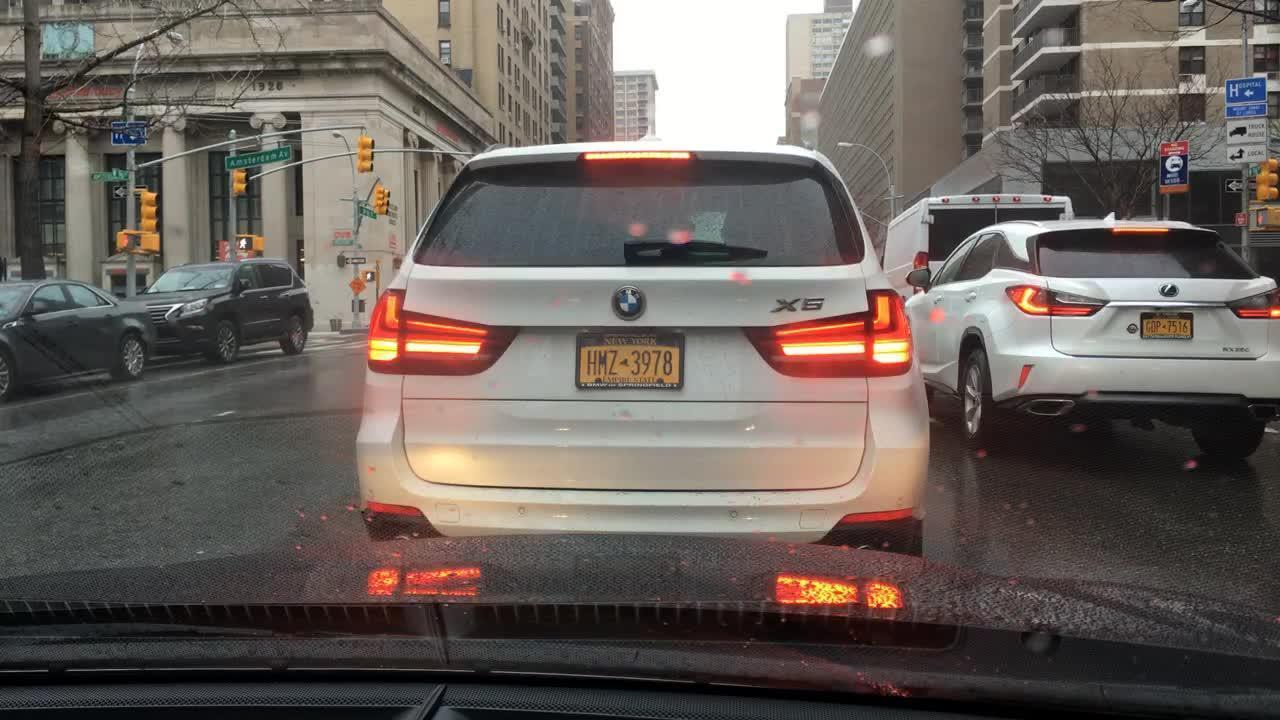bmw: (609, 282, 649, 323)
lexus: (1157, 280, 1184, 301)
